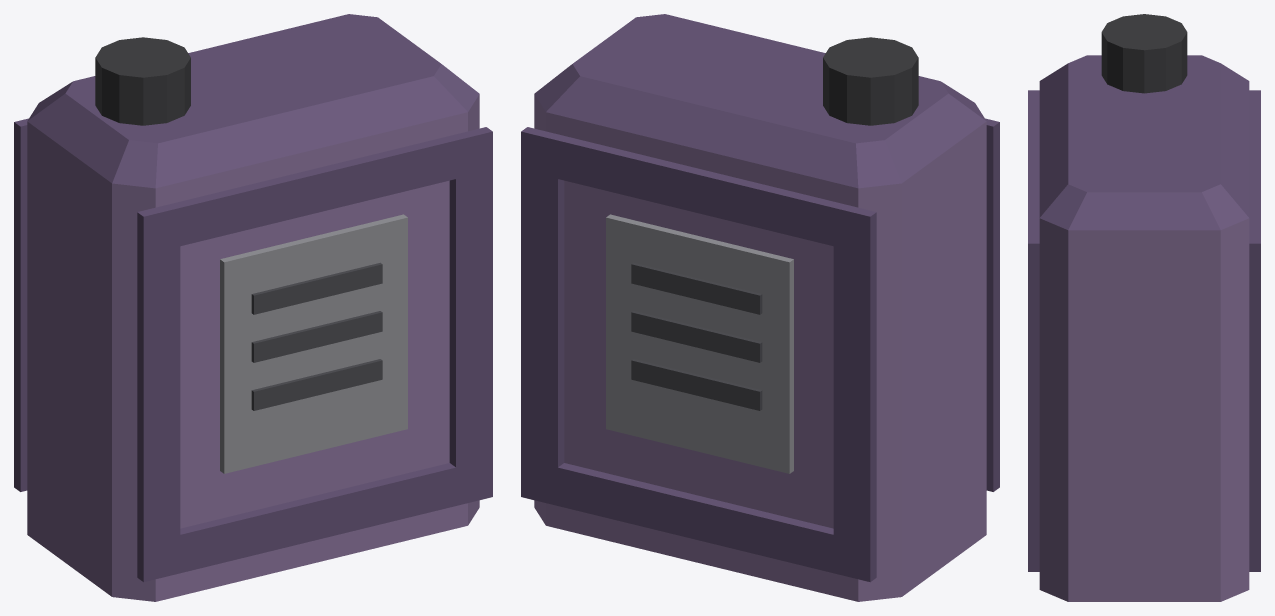
File: vge_item_astrofuel_a.obj
3 views of the same model, side by side, from view 1: azimuth 30°, elevation 25°; view 2: azimuth 150°, elevation 25°; view 3: azimuth 270°, elevation 25° (orthographic). The views are drawn at different scales.
Parts seen in each view (by area): view 1: vge_item_astrofuel_a_0, vge_item_astrofuel_a_1, vge_item_astrofuel_a_6, vge_item_astrofuel_a_2, vge_item_astrofuel_a_3, vge_item_astrofuel_a_5, vge_item_astrofuel_a_4, vge_item_astrofuel_a_18, vge_item_astrofuel_a_10, vge_item_astrofuel_a_7, vge_item_astrofuel_a_8, vge_item_astrofuel_a_9; view 2: vge_item_astrofuel_a_0, vge_item_astrofuel_a_1, vge_item_astrofuel_a_14, vge_item_astrofuel_a_10, vge_item_astrofuel_a_11, vge_item_astrofuel_a_13, vge_item_astrofuel_a_12, vge_item_astrofuel_a_18, vge_item_astrofuel_a_2, vge_item_astrofuel_a_15, vge_item_astrofuel_a_16, vge_item_astrofuel_a_17; view 3: vge_item_astrofuel_a_0, vge_item_astrofuel_a_1, vge_item_astrofuel_a_18, vge_item_astrofuel_a_3, vge_item_astrofuel_a_11, vge_item_astrofuel_a_5, vge_item_astrofuel_a_13.
Part boxes in pixels (x1,y1,x2,y2): vge_item_astrofuel_a_0: [27, 94, 479, 601]; vge_item_astrofuel_a_1: [27, 14, 479, 188]; vge_item_astrofuel_a_6: [220, 214, 407, 473]; vge_item_astrofuel_a_2: [137, 203, 180, 582]; vge_item_astrofuel_a_3: [449, 127, 492, 505]; vge_item_astrofuel_a_5: [174, 136, 455, 246]; vge_item_astrofuel_a_4: [180, 463, 455, 573]; vge_item_astrofuel_a_18: [95, 37, 190, 125]; vge_item_astrofuel_a_10: [14, 118, 28, 491]; vge_item_astrofuel_a_7: [251, 359, 382, 410]; vge_item_astrofuel_a_8: [251, 311, 382, 362]; vge_item_astrofuel_a_9: [251, 262, 382, 314]; vge_item_astrofuel_a_0: [534, 94, 986, 601]; vge_item_astrofuel_a_1: [534, 14, 986, 188]; vge_item_astrofuel_a_14: [606, 214, 793, 473]; vge_item_astrofuel_a_10: [833, 203, 876, 582]; vge_item_astrofuel_a_11: [521, 127, 564, 505]; vge_item_astrofuel_a_13: [558, 136, 839, 246]; vge_item_astrofuel_a_12: [558, 463, 833, 573]; vge_item_astrofuel_a_18: [823, 37, 918, 125]; vge_item_astrofuel_a_2: [985, 118, 999, 491]; vge_item_astrofuel_a_15: [631, 359, 762, 410]; vge_item_astrofuel_a_16: [631, 311, 762, 362]; vge_item_astrofuel_a_17: [631, 262, 762, 314]; vge_item_astrofuel_a_0: [1039, 218, 1249, 601]; vge_item_astrofuel_a_1: [1039, 55, 1249, 230]; vge_item_astrofuel_a_18: [1101, 14, 1187, 93]; vge_item_astrofuel_a_3: [1028, 227, 1039, 571]; vge_item_astrofuel_a_11: [1249, 227, 1260, 571]; vge_item_astrofuel_a_5: [1028, 106, 1039, 227]; vge_item_astrofuel_a_13: [1249, 106, 1260, 227].
Size of the model in its own units: 0.4 by 0.51 by 0.244.
